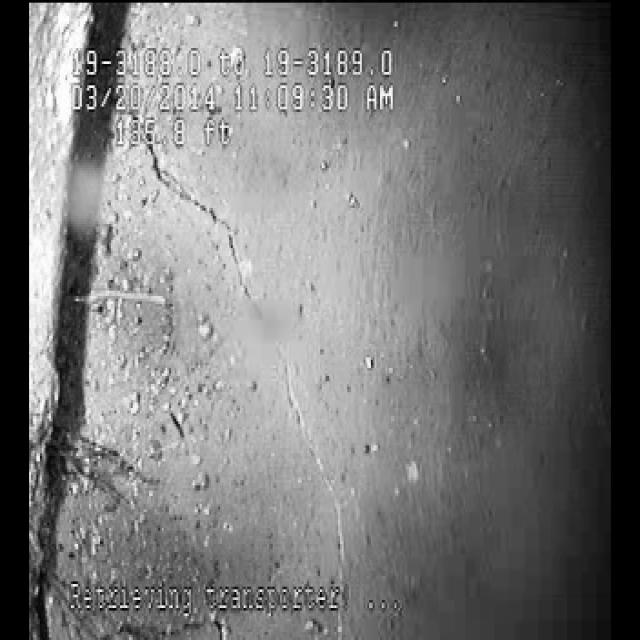Crack: (158, 161, 332, 491)
